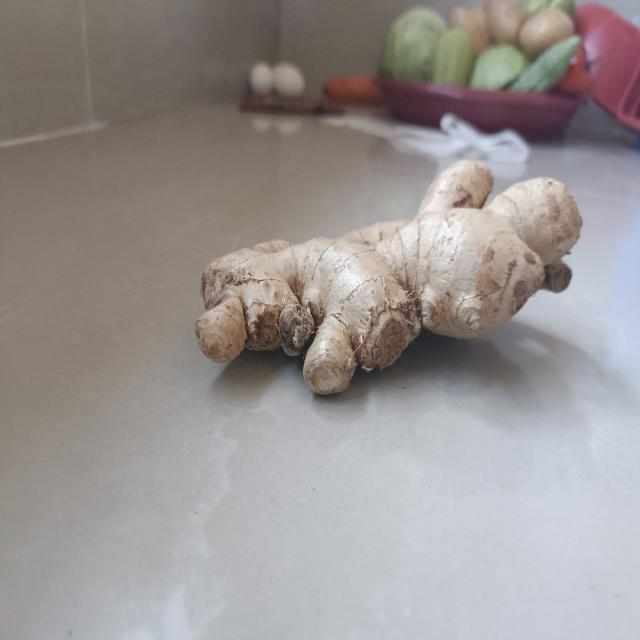ginger: (188, 152, 586, 404)
